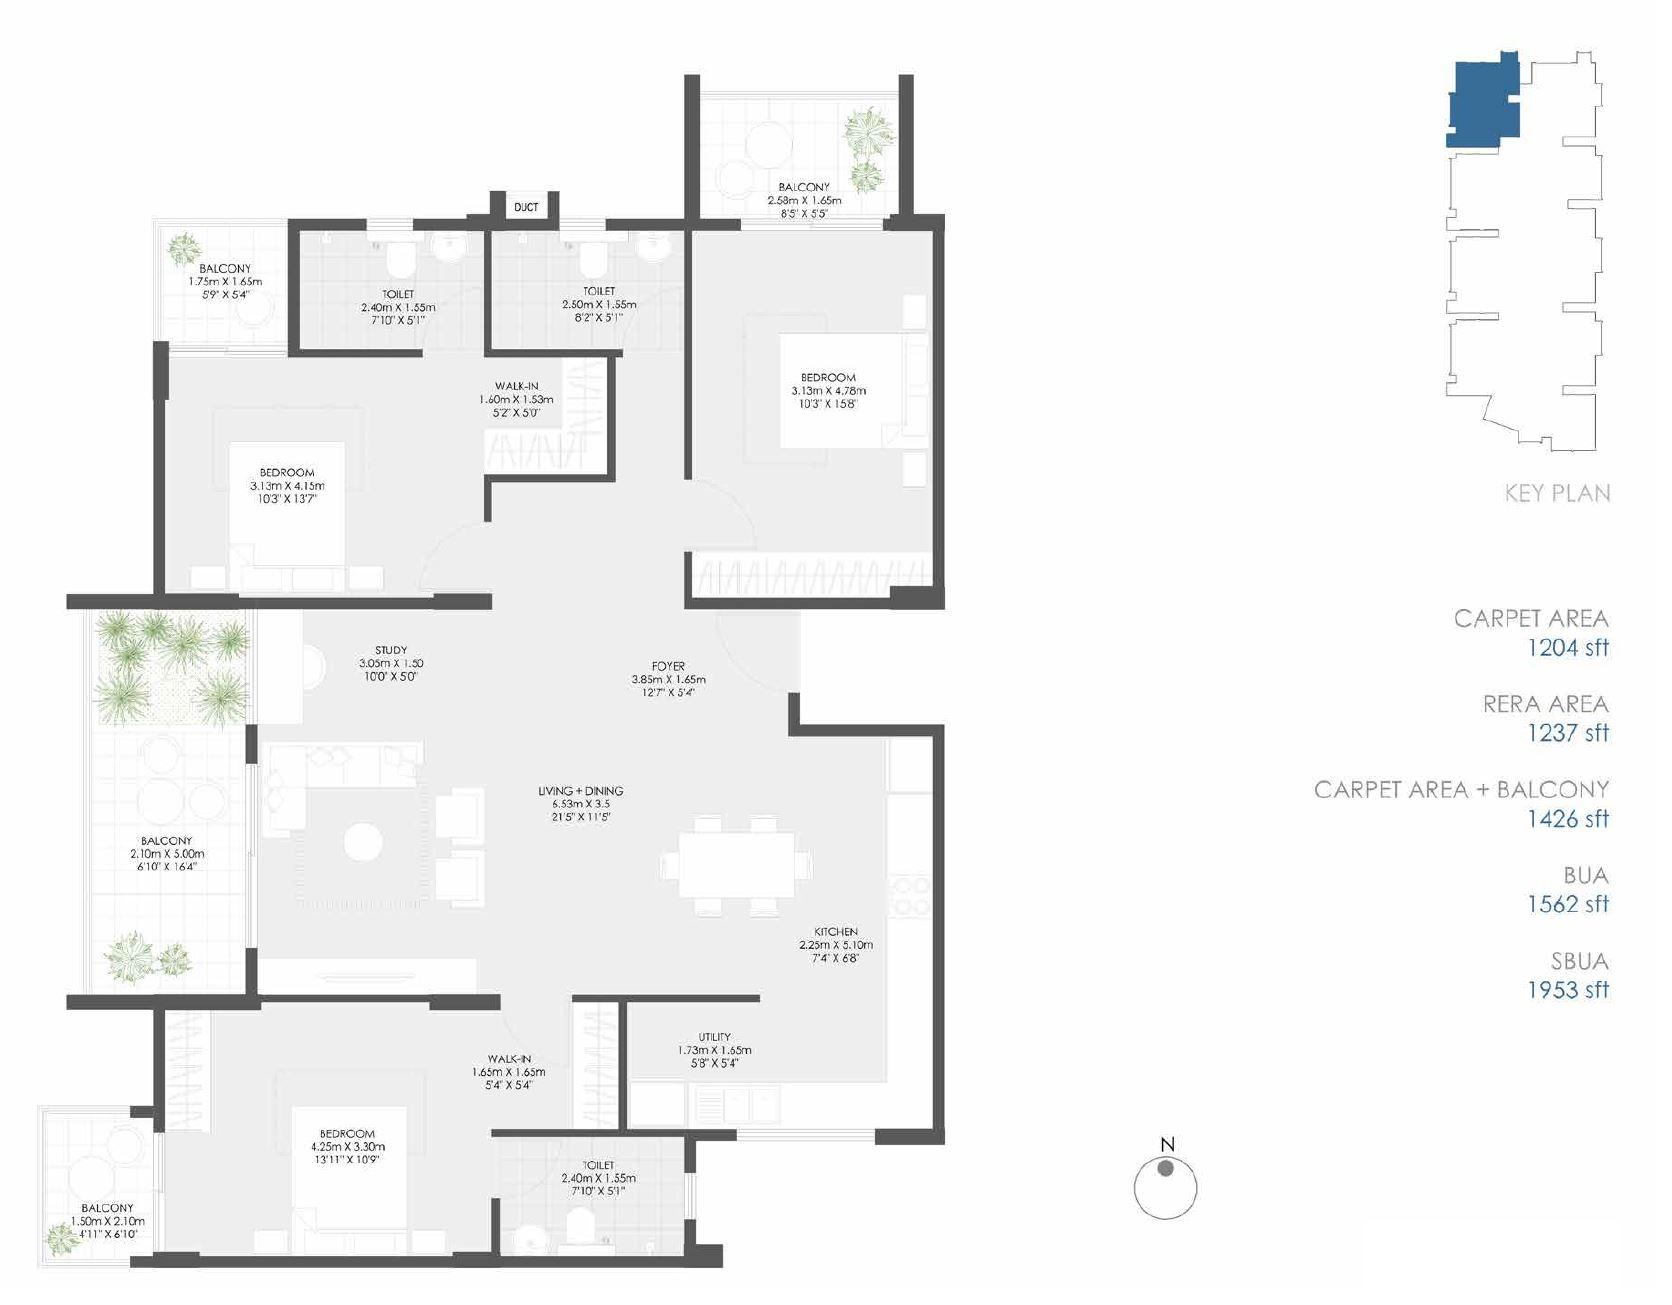Balcony: (85, 610, 248, 998), (699, 95, 896, 221), (157, 224, 294, 350), (43, 1110, 155, 1262)
Bed: (231, 438, 353, 596), (289, 1104, 407, 1258), (783, 332, 932, 449)
Bedroom: (693, 231, 932, 596), (164, 1008, 484, 1255), (164, 353, 484, 598)
Dining Room: (596, 737, 841, 993)
Dining table: (651, 806, 822, 927)
Foyer: (479, 610, 793, 728)
Kitchen: (775, 741, 932, 1129)
Living Room: (252, 738, 593, 994)
Wardrobe: (693, 551, 930, 604), (571, 1002, 622, 1134), (483, 430, 608, 476), (164, 1011, 209, 1135), (563, 358, 607, 479)
door: (407, 513, 499, 600), (711, 617, 802, 701), (483, 1134, 567, 1207), (495, 998, 571, 1073), (685, 475, 760, 549), (421, 284, 489, 357), (145, 1130, 183, 1259), (242, 758, 266, 948), (622, 286, 687, 354)
study: (255, 610, 484, 728)
toilet: (493, 1134, 688, 1255), (294, 225, 483, 349), (490, 227, 683, 345)
utility: (627, 998, 769, 1129)
walkin: (476, 353, 609, 475)
